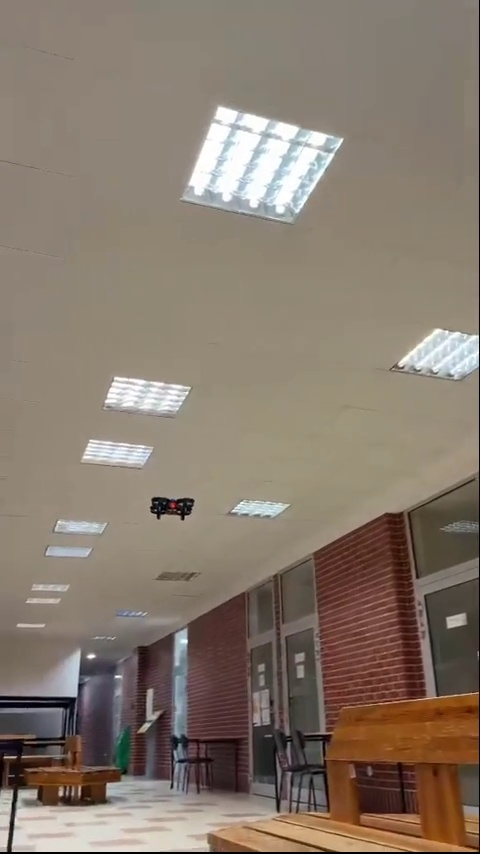drone: (150, 494, 189, 515)
